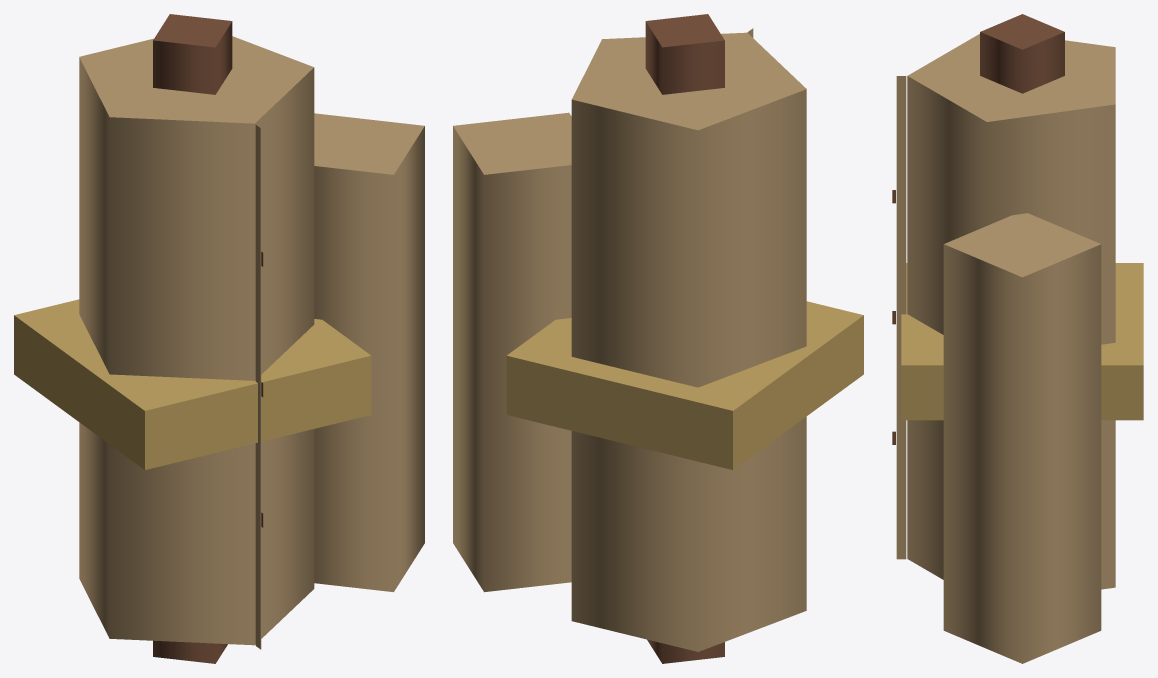
The model's file is scroll-2-lod2.glb.
The picture shows the model from 3 angles, left to right: view 1: azimuth 30°, elevation 25°; view 2: azimuth 150°, elevation 25°; view 3: azimuth 270°, elevation 25°; orthographic projection. The views are drawn at different scales.
Parts seen in each view (by area): view 1: piece_whole, ReadingSheet; view 2: piece_whole; view 3: piece_whole, ReadingSheet.
Boxes of the visible parts, x1,y1,x2,y2 form: piece_whole: (14, 14, 424, 663); ReadingSheet: (255, 124, 263, 649); piece_whole: (453, 14, 863, 663); piece_whole: (901, 14, 1143, 663); ReadingSheet: (892, 76, 906, 559).
Size of the model in its own units: 0.305 by 0.52 by 0.2075.
